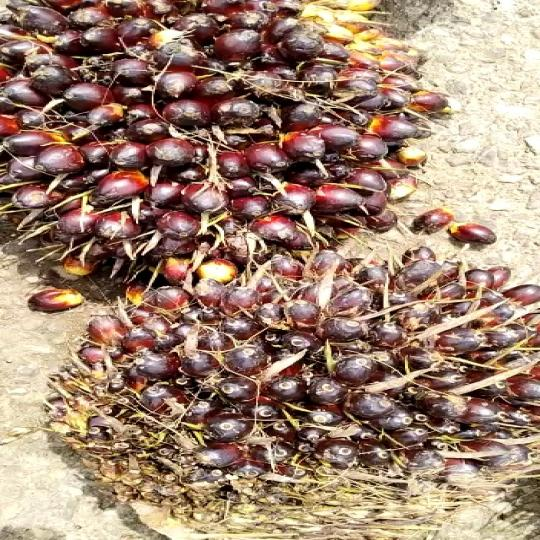kurang masak: (50, 266, 540, 540), (0, 0, 431, 288)
